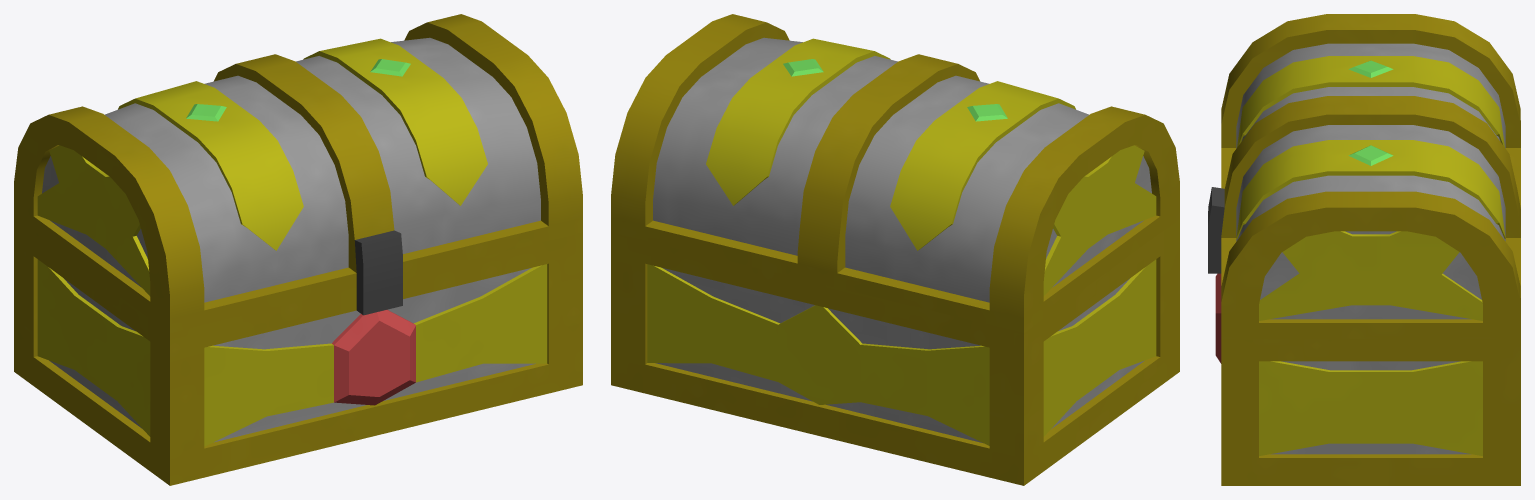
File: Chest3.fbx
3 views of the same model, side by side, from view 1: azimuth 30°, elevation 25°; view 2: azimuth 150°, elevation 25°; view 3: azimuth 270°, elevation 25° (orthographic). The views are drawn at different scales.
Parts seen in each view (by area): view 1: Chest3P2, Chest3P1; view 2: Chest3P2, Chest3P1; view 3: Chest3P2, Chest3P1.
Part boxes in pixels (x1,y1,x2,y2): Chest3P2: [14, 14, 582, 332]; Chest3P1: [14, 219, 582, 485]; Chest3P2: [611, 14, 1179, 332]; Chest3P1: [611, 219, 1179, 485]; Chest3P2: [1208, 14, 1520, 339]; Chest3P1: [1208, 251, 1520, 485].
Size of the model in its own units: 107 by 73.21 by 73.11.
